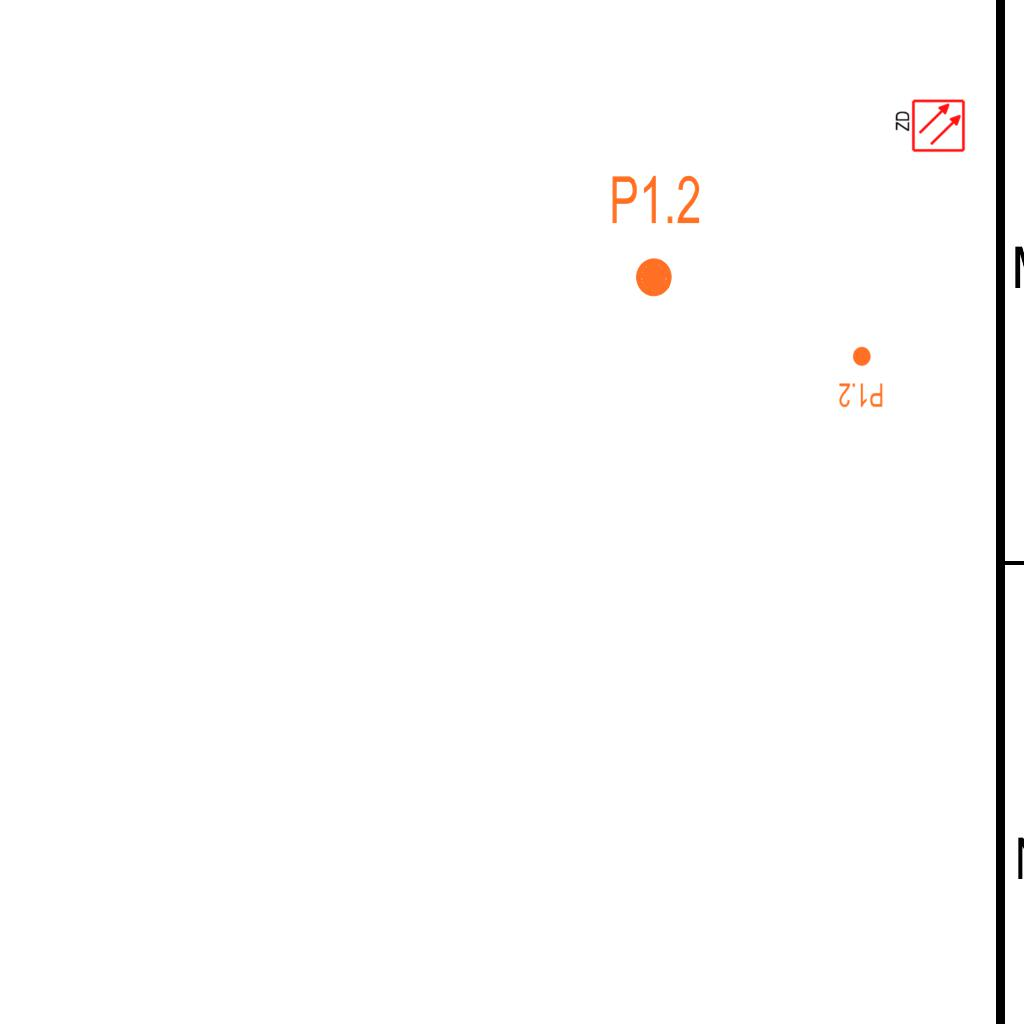Downlight_LED_Einbauleuchten_Flur: (609, 172, 702, 300), (838, 345, 884, 409)
ZD_Melder_in_Zwischendecke_mit_Revisionsoeffnung_mind_40_x_40_cm: (892, 98, 966, 155)
